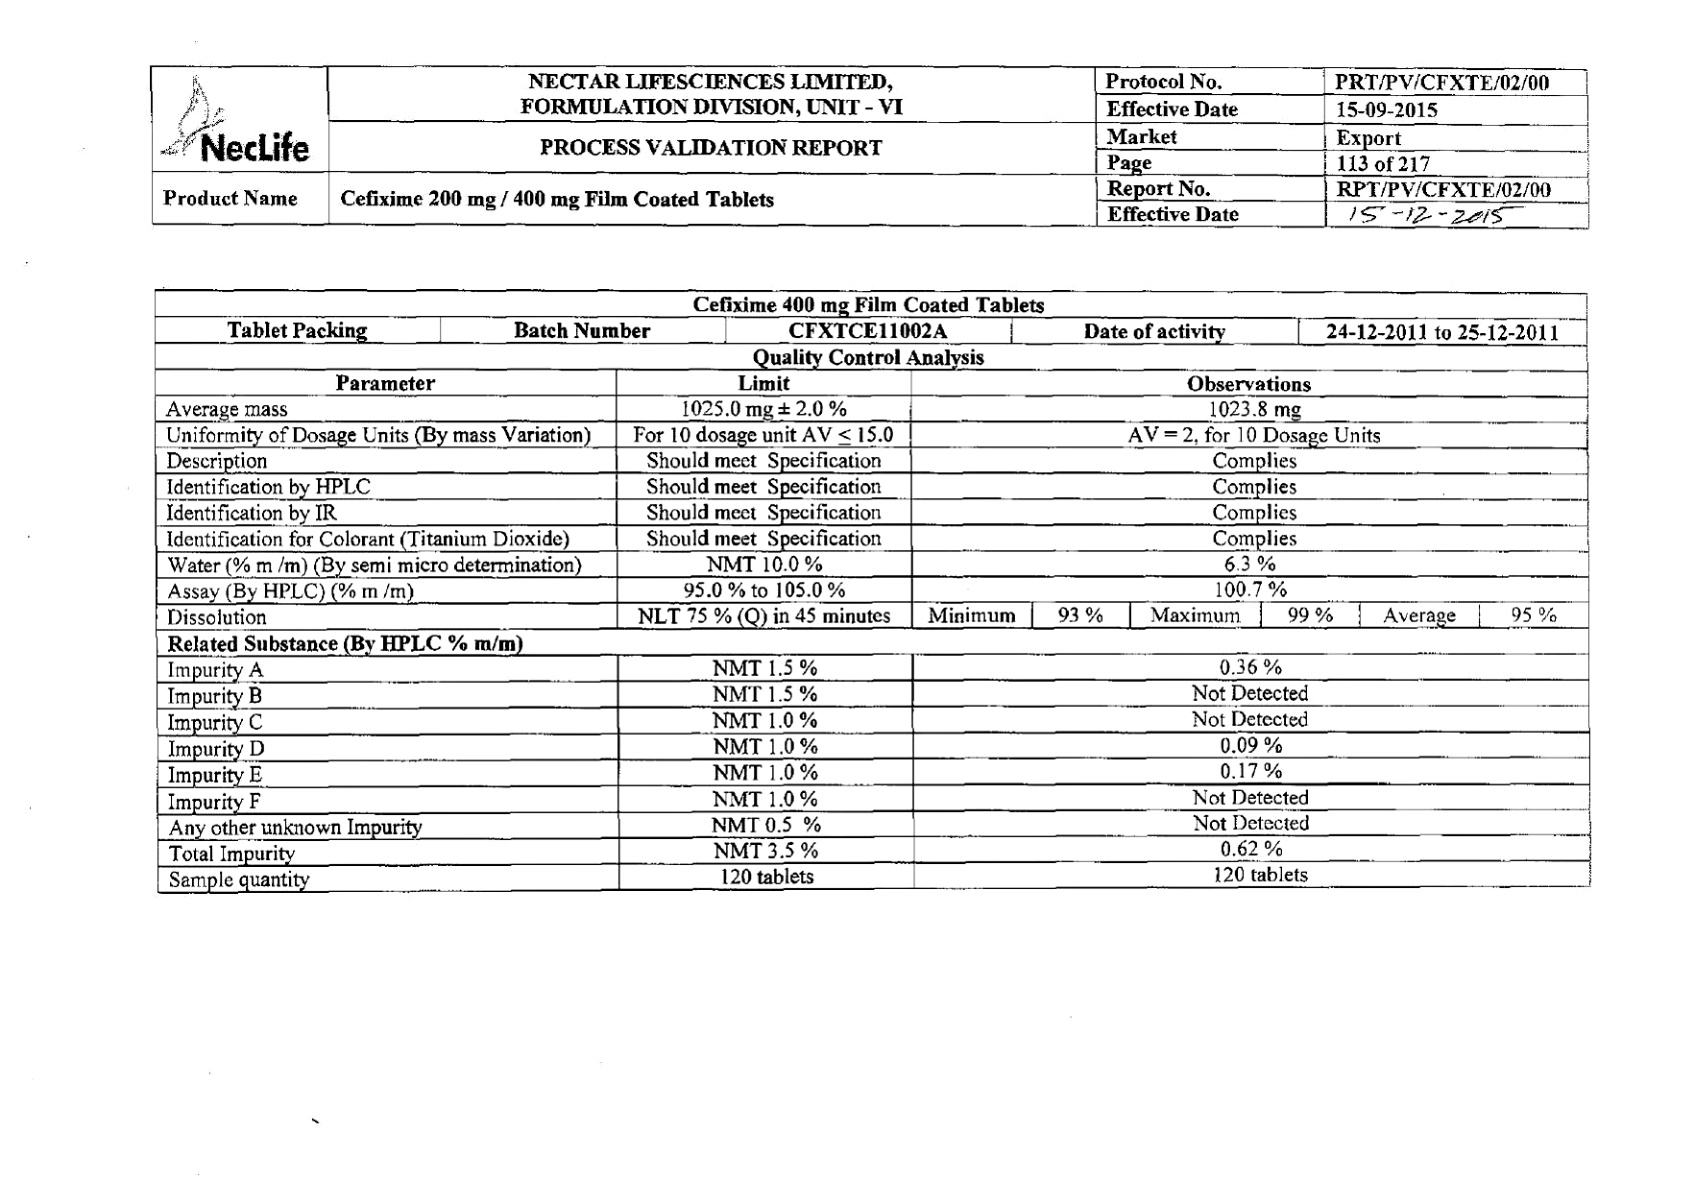merged_cells: (152, 287, 1592, 895), (149, 63, 1589, 231)
